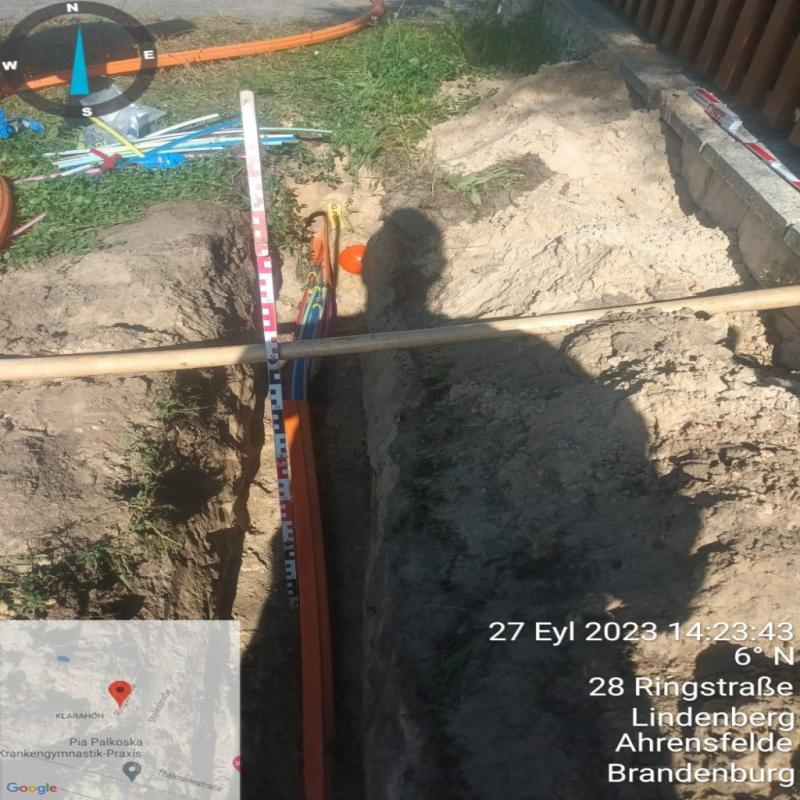Kugelmarker: (338, 245, 367, 273)
Orang-Speednetrohrchen: (283, 216, 337, 799)
